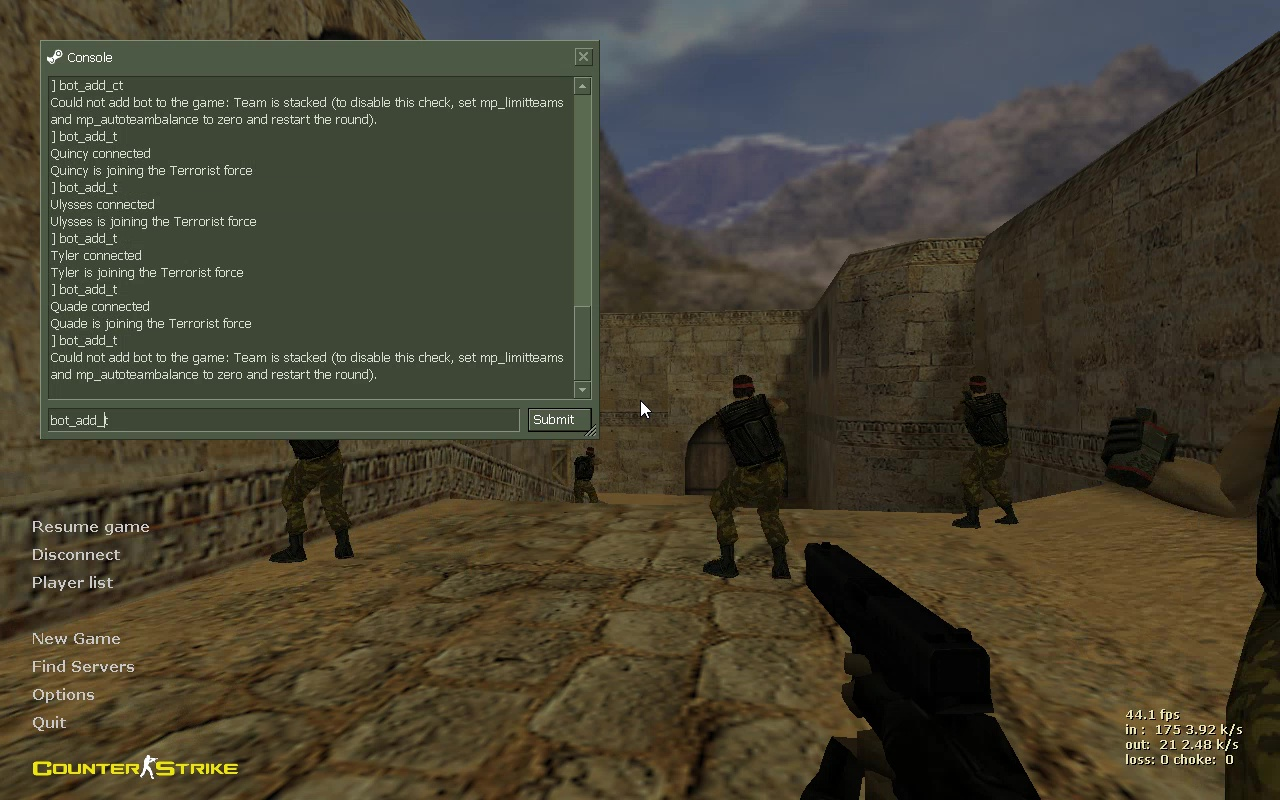terr1: (710, 375, 791, 577), (951, 380, 1016, 525), (569, 444, 603, 503)
